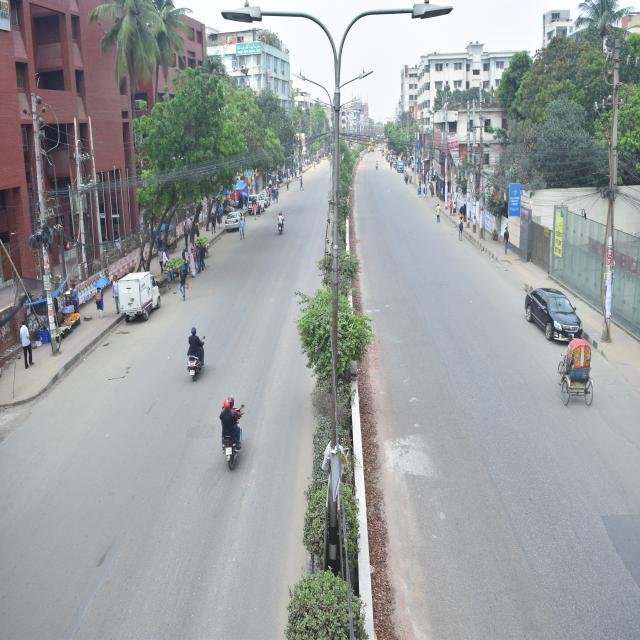car: (520, 273, 586, 346), (223, 208, 246, 235)
motorbike: (215, 392, 250, 470), (185, 324, 209, 380), (275, 210, 288, 234)
pickup-van: (117, 266, 163, 326)
